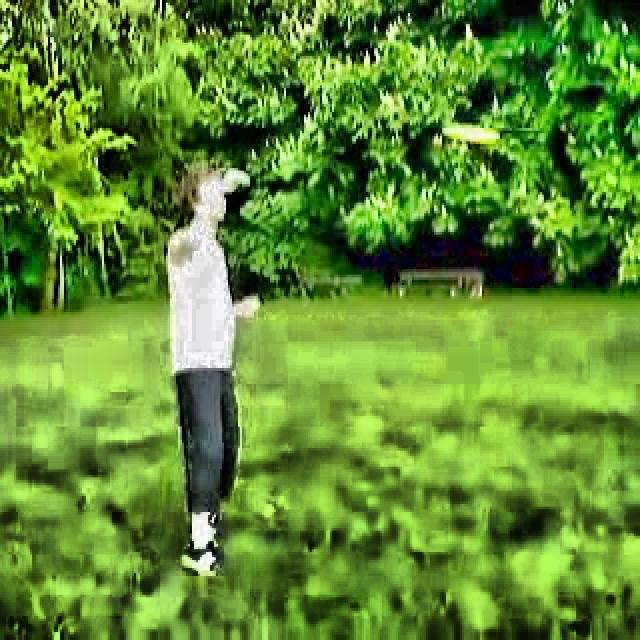T: (140, 148, 298, 604)
